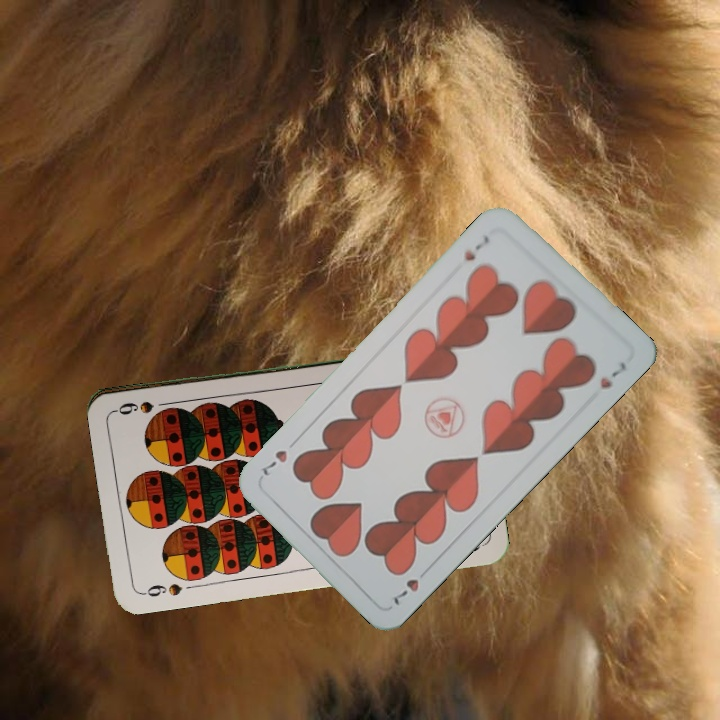H7: (389, 574, 422, 609), (459, 231, 492, 264)
S9: (137, 579, 185, 600)
